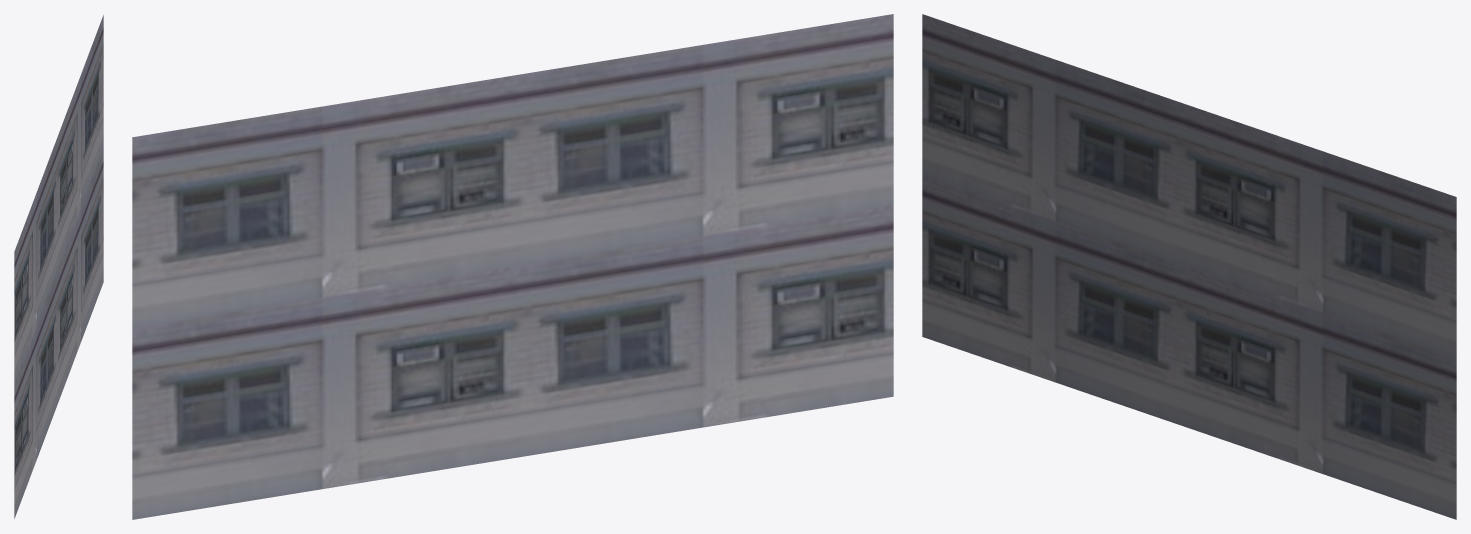
The model's file is ResTex__2336.fbx.
The picture shows the model from 3 angles, left to right: view 1: azimuth 30°, elevation 25°; view 2: azimuth 150°, elevation 25°; view 3: azimuth 270°, elevation 25°; orthographic projection. The views are drawn at different scales.
Visible parts, largest first — view 1: CityEngineMaterial_1_m; view 2: CityEngineMaterial_1_m; view 3: CityEngineMaterial_1_m.
Part boxes in pixels (x1,y1,x2,y2): CityEngineMaterial_1_m: (14,15,103,518); CityEngineMaterial_1_m: (132,14,893,519); CityEngineMaterial_1_m: (922,14,1456,519).
Bounding box in the file's own units: 7.3 × 6 × 9.
1 material, 1 textured.
